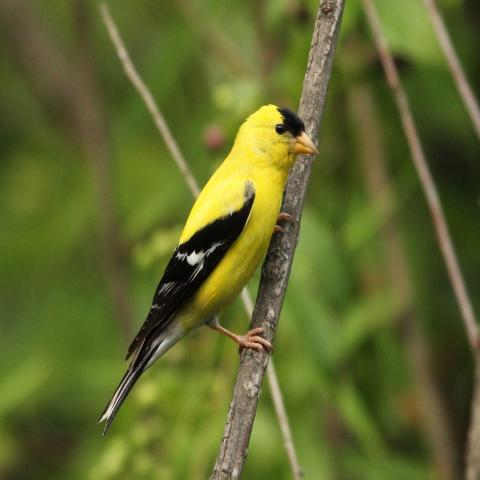bird: (96, 100, 320, 436)
